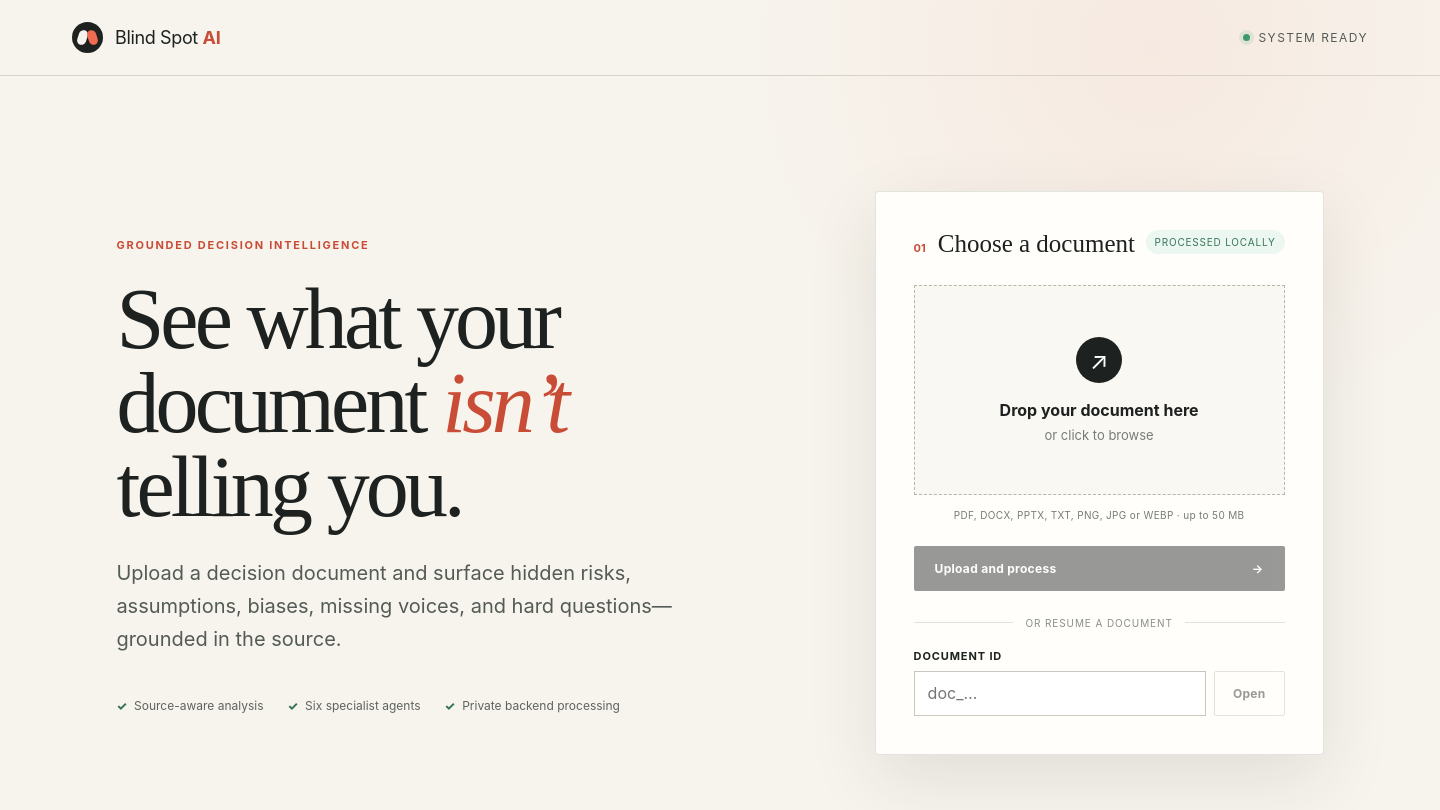
Scenario: Blind Spot AI workspace › shows a safe backend error in the intake flow
This screenshot has width=1440, height=810.
Type "doc_missing" into the field labelled "Document ID" at (1060, 693), box left=914, top=671, right=1206, bottom=716
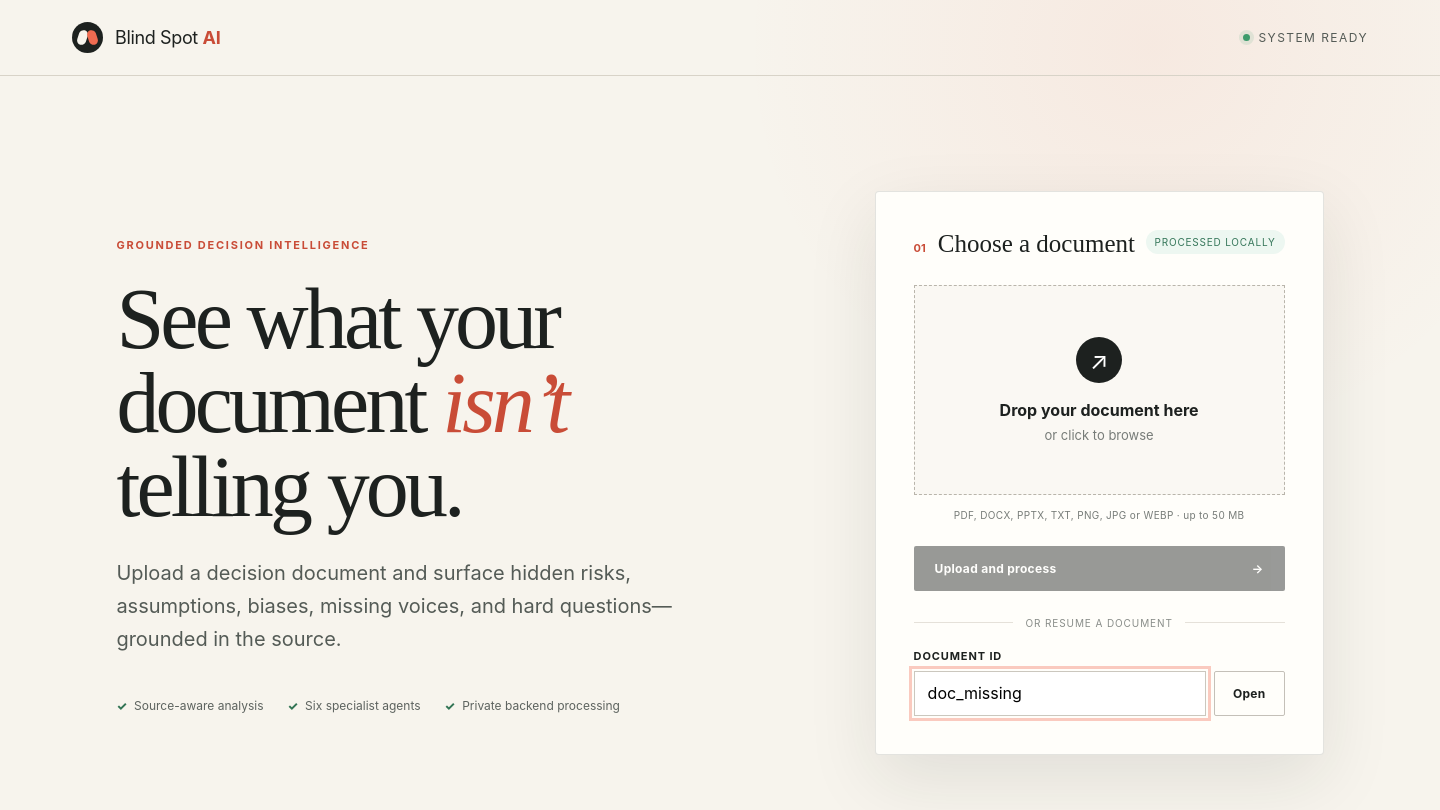
Click the button "Open" at (1249, 693), box left=1214, top=671, right=1285, bottom=716
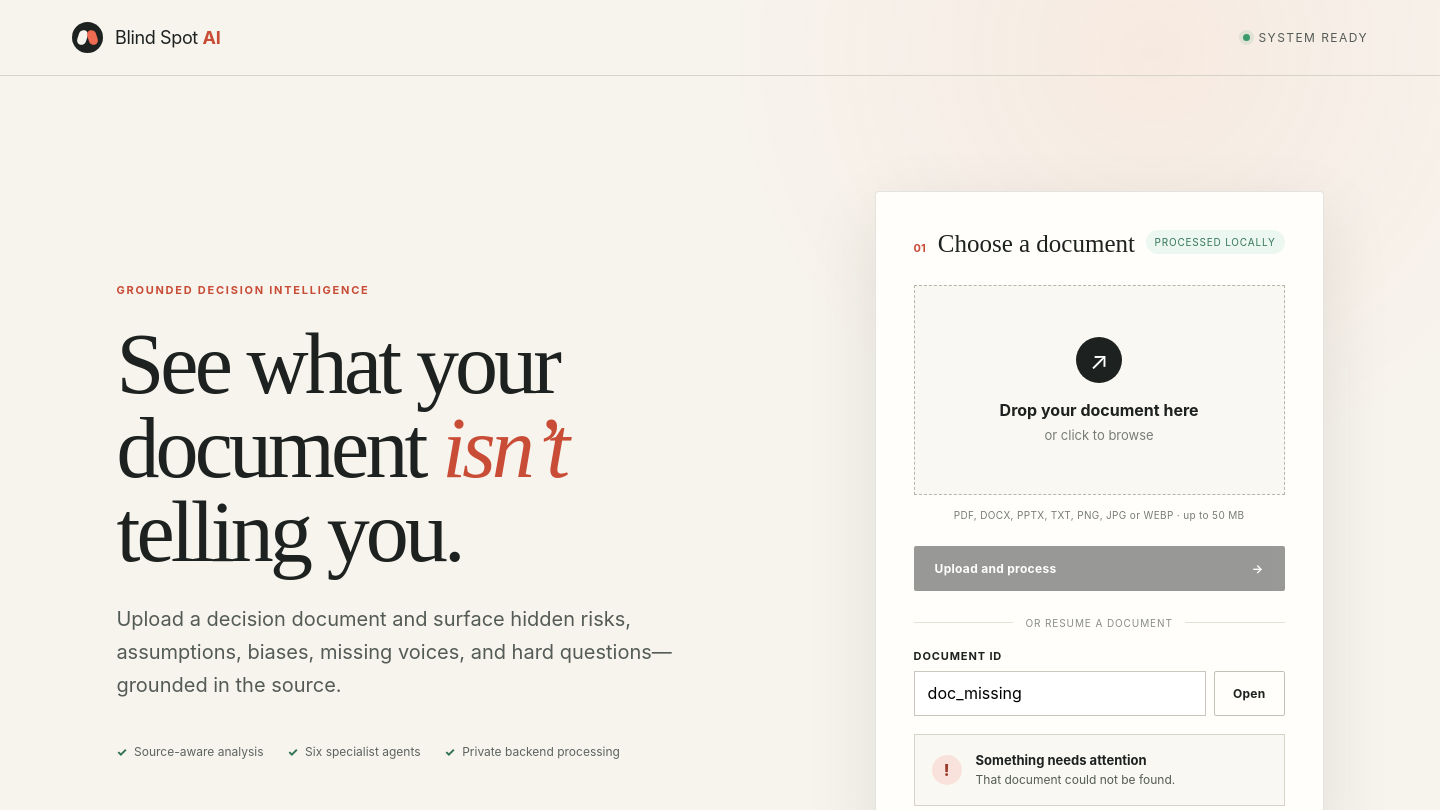
expect the message shows "That document could not be found.": met, box left=976, top=772, right=1175, bottom=787
